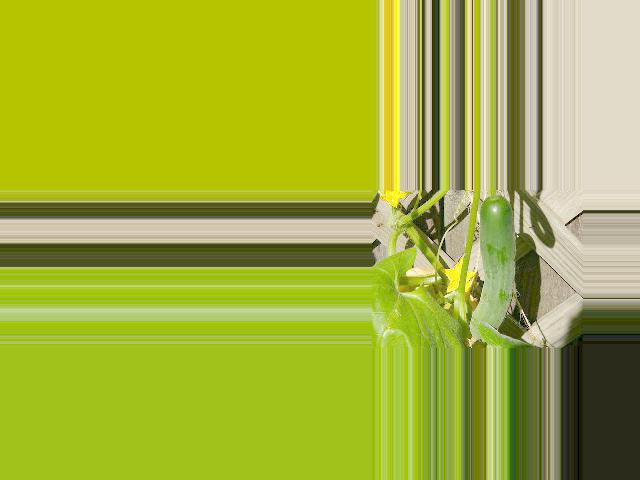cucumber: (470, 197, 516, 347)
